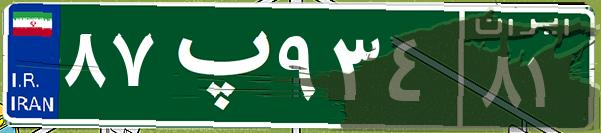1: (525, 38, 570, 115)
3: (330, 28, 385, 110)
4: (385, 28, 445, 110)
7: (110, 28, 158, 105)
8: (57, 26, 110, 107), (475, 38, 525, 113)
9: (273, 28, 330, 110)
پ: (158, 15, 273, 115)
